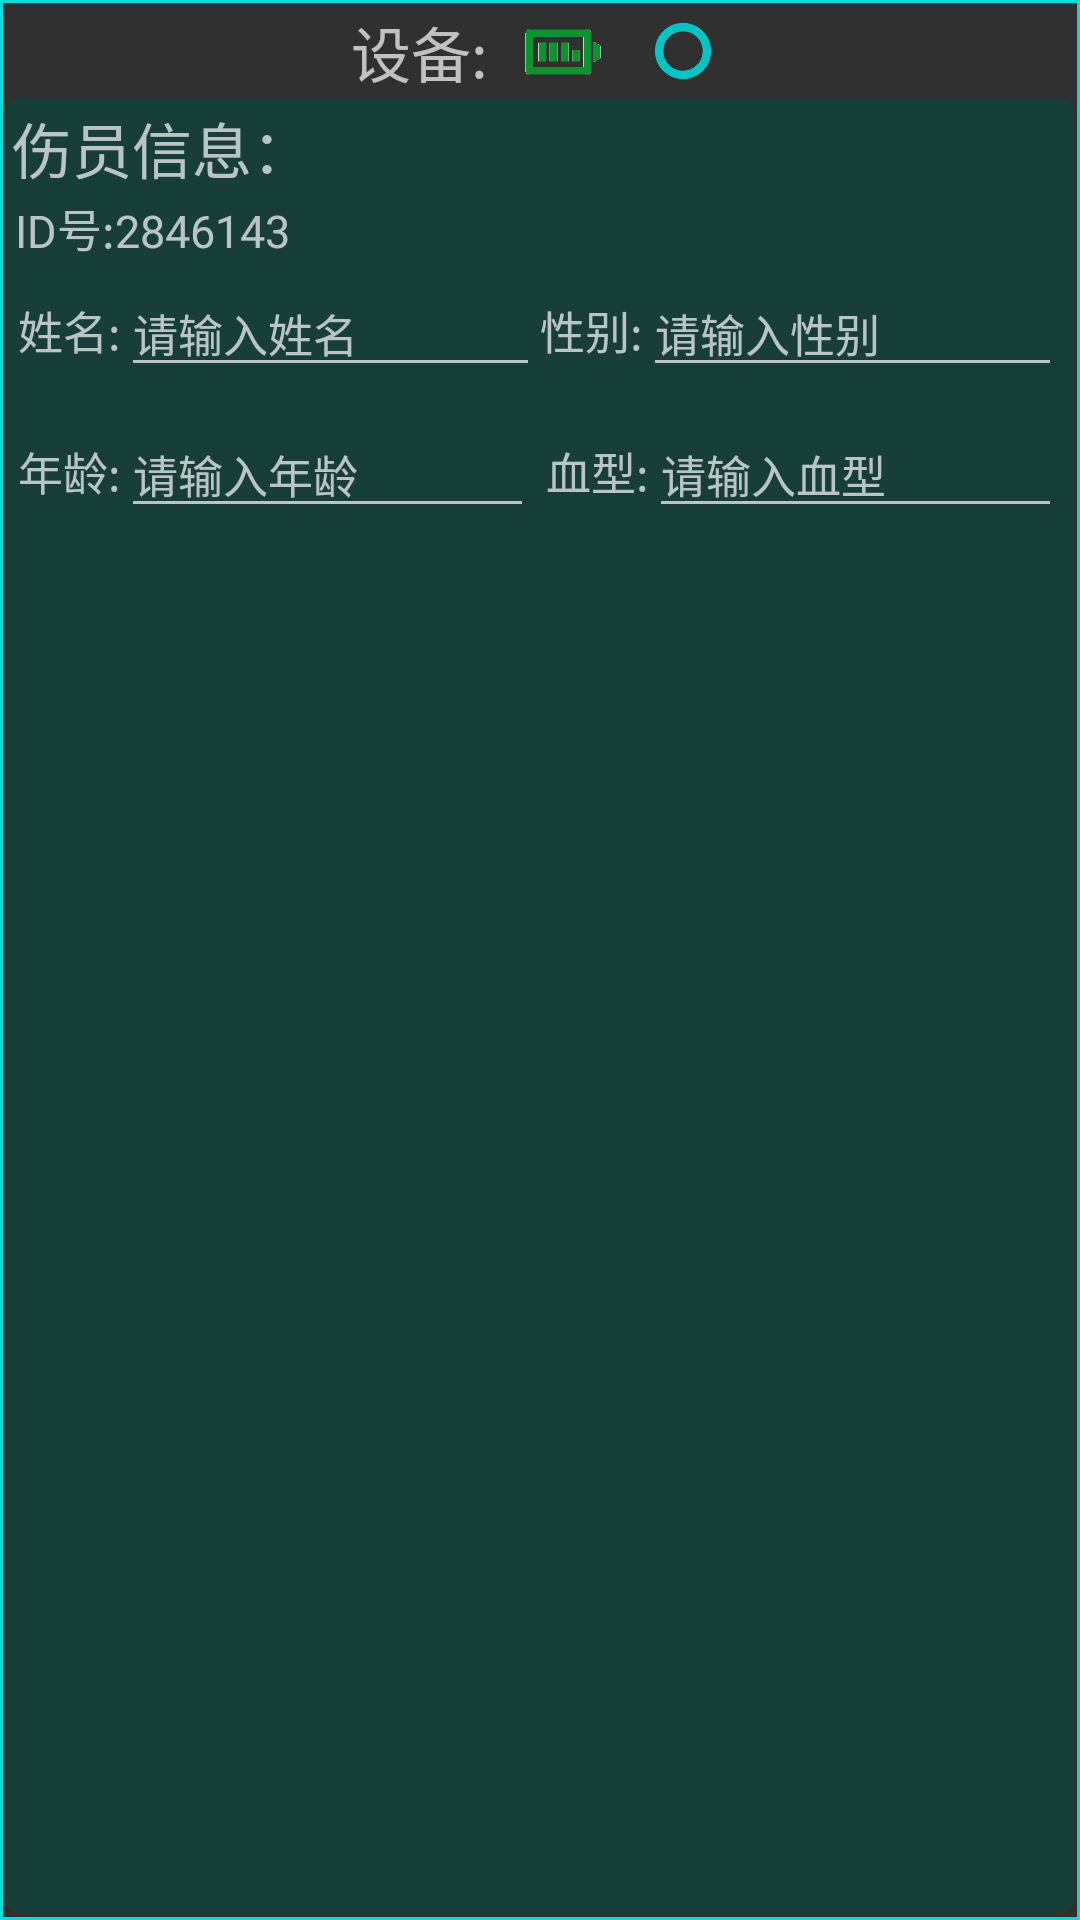

Named icons in this screenshot (1080x1920) and their centers, [x,y]:
ele: [563,52]
